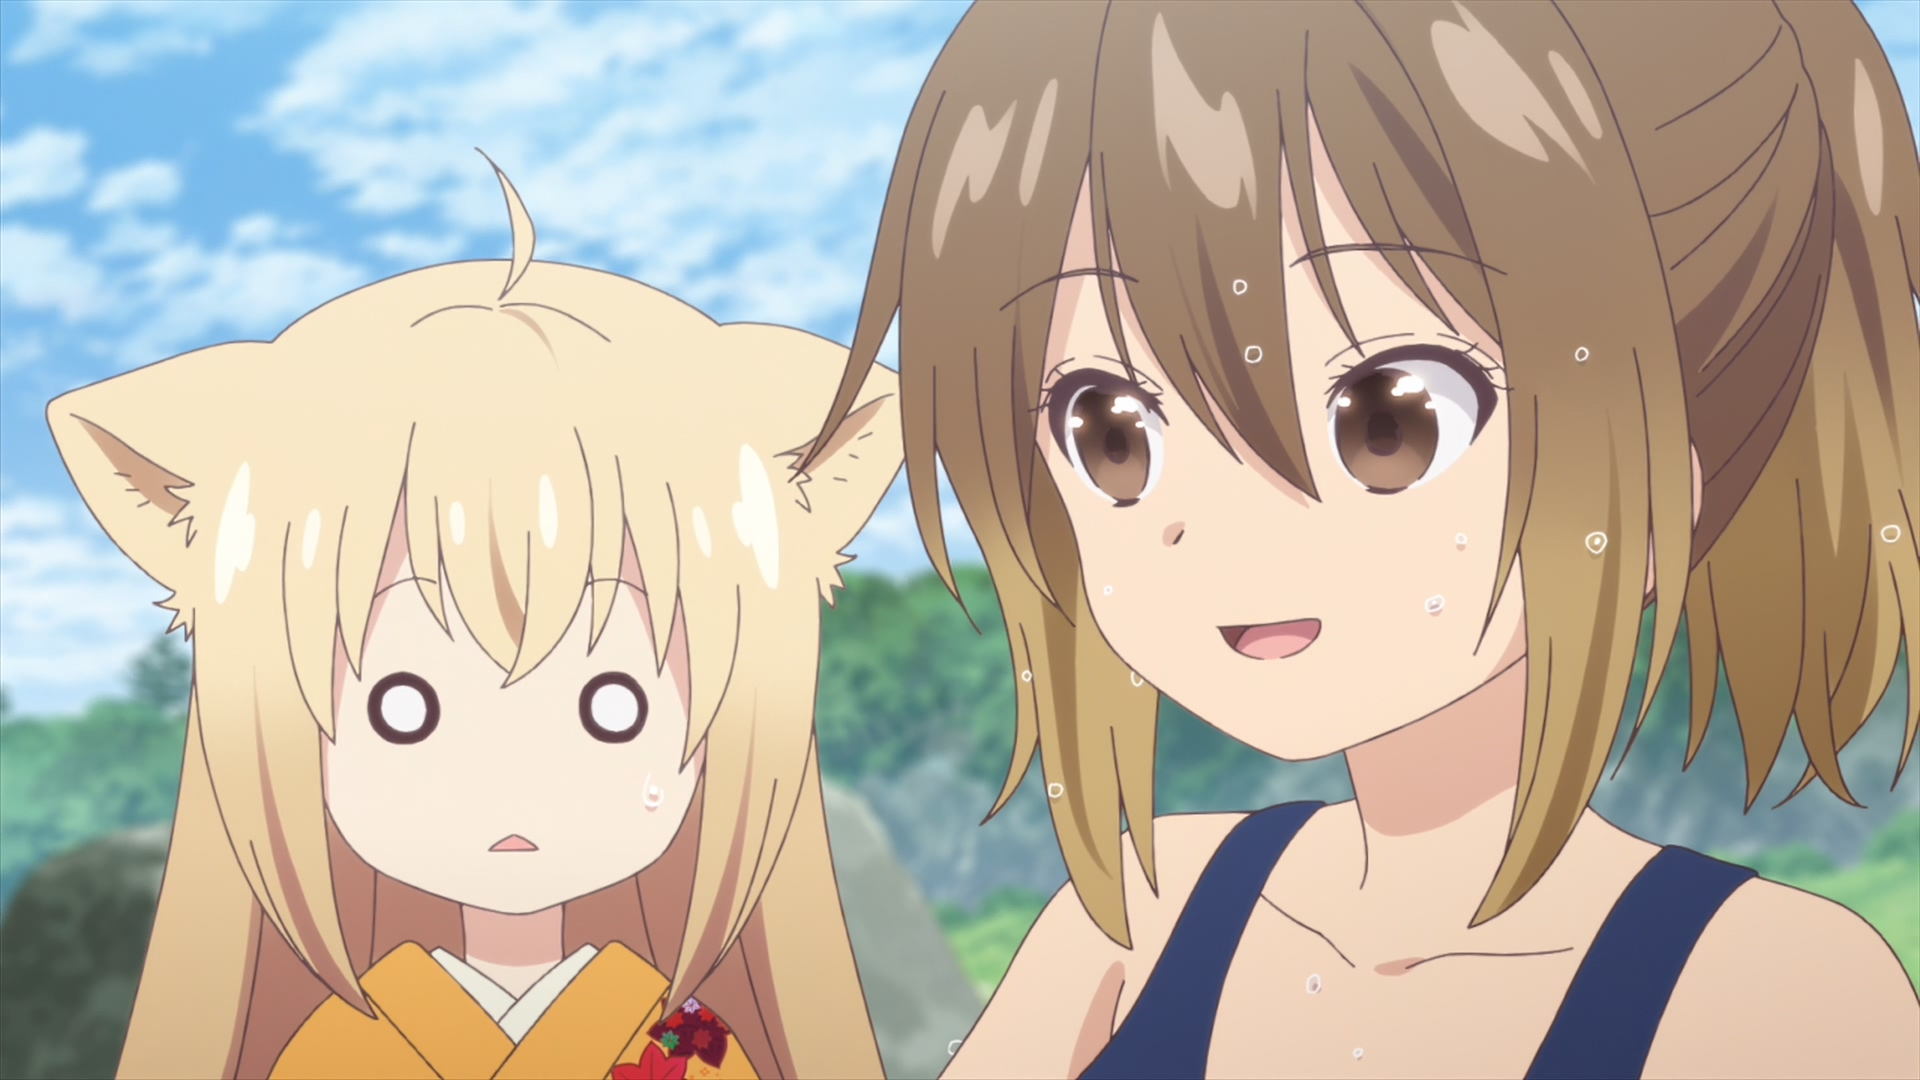其他: (786, 1, 1920, 1080)
柚: (47, 149, 907, 1080)
